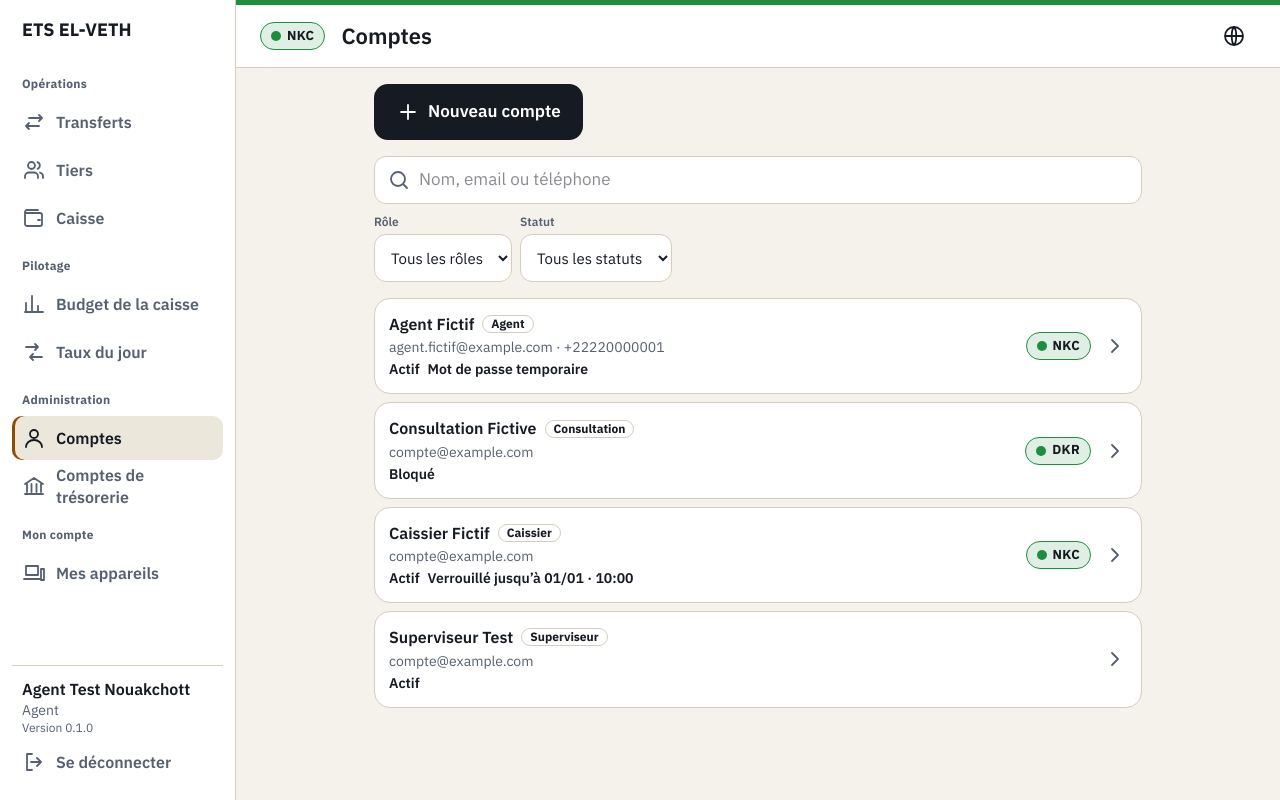
Test case: Comptes — gestionnaire non Superviseur › ne propose ni le rôle Superviseur ni une autre agence
The width and height of the screenshot is (1280, 800).
Click the button "Nouveau compte" at (478, 112), box [374,84,583,140]
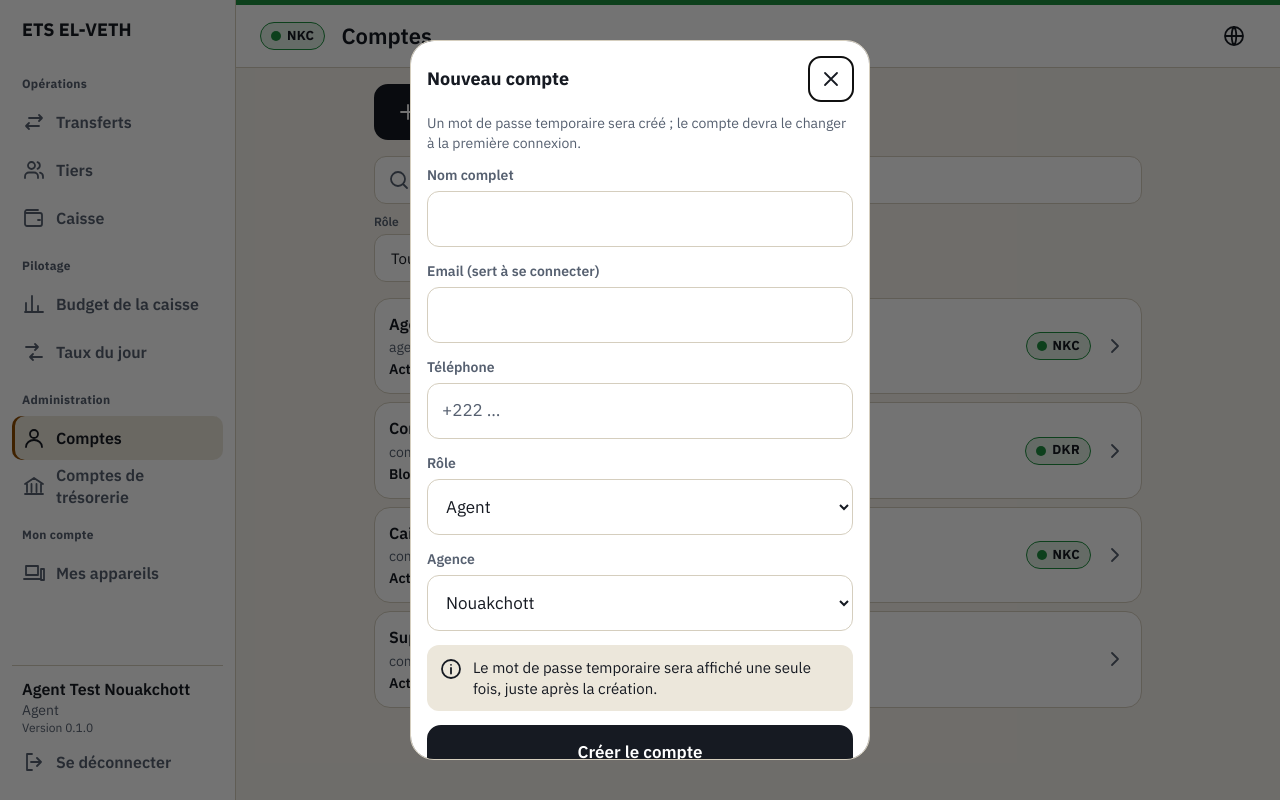
Expected: the dropdown labelled "Agence" is disabled, [427,575,853,631]
Expected: the dropdown labelled "Agence" shows "Nouakchott", [427,575,853,631]
